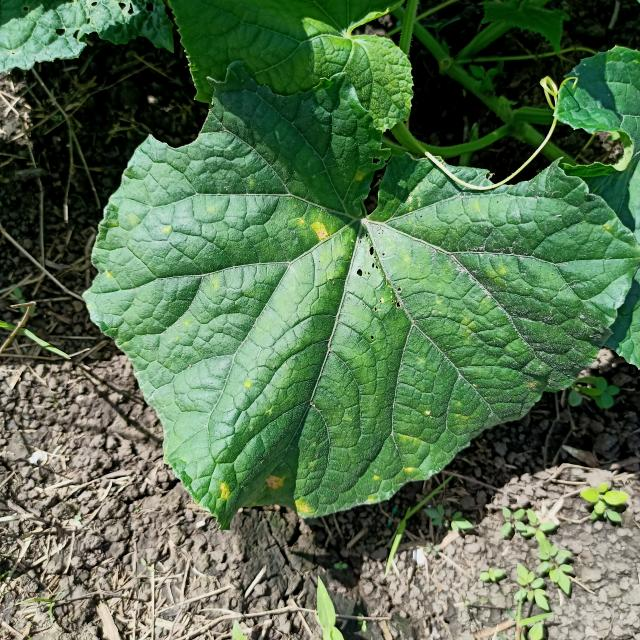disease_cucumber: (264, 472, 286, 491), (310, 220, 328, 243), (292, 501, 310, 515), (218, 482, 230, 502), (164, 225, 169, 233)
